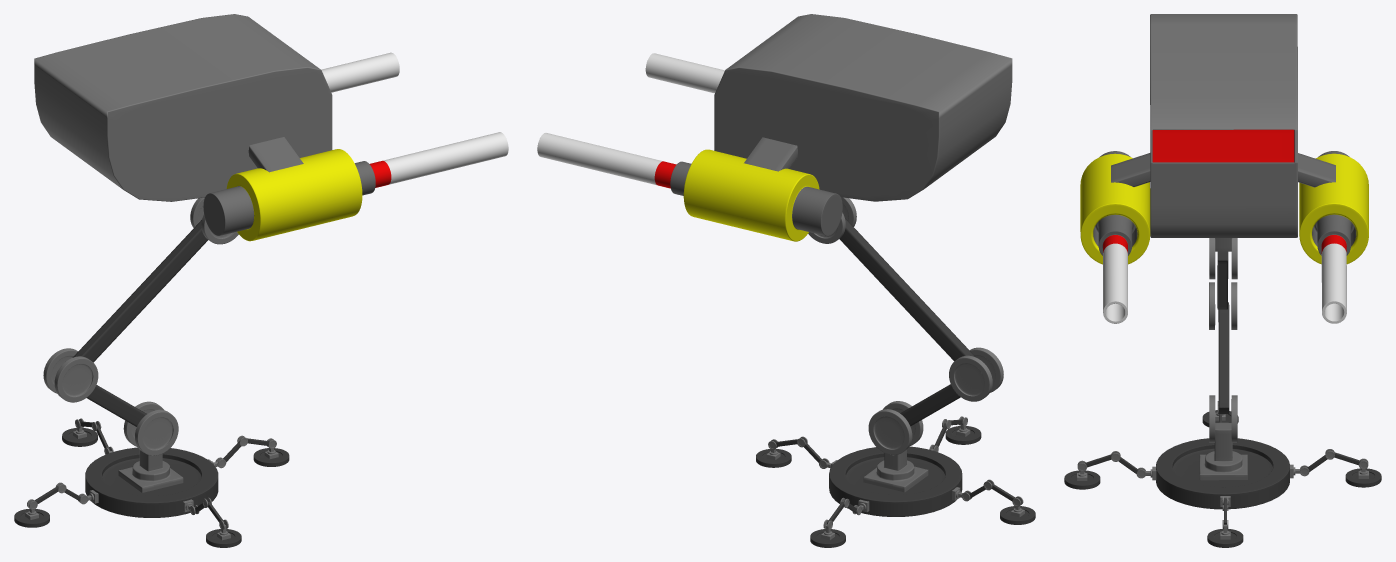
The model's file is Turret01.fbx.
The picture shows the model from 3 angles, left to right: view 1: azimuth 30°, elevation 25°; view 2: azimuth 150°, elevation 25°; view 3: azimuth 270°, elevation 25°; orthographic projection.
Visible parts, largest first — view 1: polySurface642, polySurface697, polySurface632, polySurface733; view 2: polySurface642, polySurface697, polySurface632, polySurface733; view 3: polySurface642, polySurface632, polySurface697, polySurface733.
Boxes of the visible parts, left/top/right/bottom form: polySurface642: left=34, top=14, right=332, bottom=201; polySurface697: left=14, top=197, right=289, bottom=547; polySurface632: left=203, top=52, right=508, bottom=241; polySurface733: left=118, top=137, right=303, bottom=492; polySurface642: left=714, top=14, right=1012, bottom=201; polySurface697: left=756, top=197, right=1035, bottom=547; polySurface632: left=537, top=53, right=842, bottom=241; polySurface733: left=744, top=137, right=928, bottom=492; polySurface642: left=1150, top=14, right=1297, bottom=237; polySurface632: left=1080, top=151, right=1368, bottom=323; polySurface697: left=1064, top=238, right=1381, bottom=547; polySurface733: left=1111, top=153, right=1335, bottom=480.
Size of the model in its own units: 148 by 140 by 93.25.
